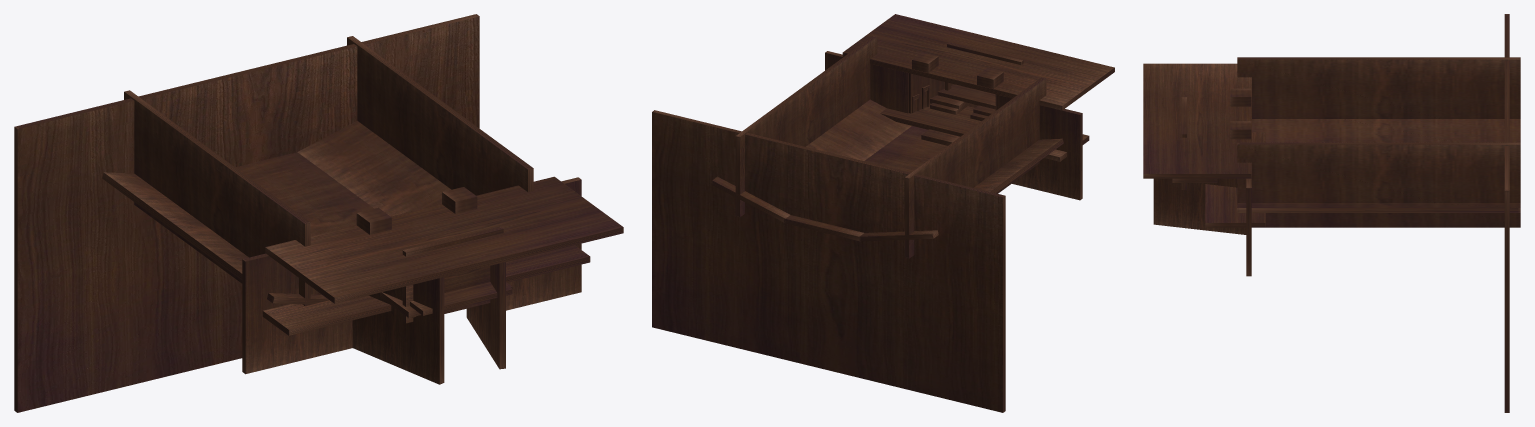
File: blockout.fbx
3 renders of one model, left to right at view 1: azimuth 30°, elevation 25°; view 2: azimuth 150°, elevation 25°; view 3: azimuth 270°, elevation 25°, orthographic. The views are drawn at different scales.
Visible parts, largest first — view 1: Cube (18), Cube (19), Cube (16), Cube (17), Cube (12), Cube (21), Cube (14), Cube (2), Cube, Cube (13), Cube (20), Cube (15) (+4 smaller); view 2: Cube (18), Cube (19), Cube (16), Cube (17), Cube (12), Cube (21), Cube (2), Cube (13), Cube, Cube (20), Cube (15), Cube (4) (+3 smaller); view 3: Cube (17), Cube (16), Cube (19), Cube (13), Cube (15), Cube (12), Cube (18), Cube, Cube (20), Cube (34), Cube (35).
Boxes of the visible parts, x1,y1,x2,y2 form: Cube (18): [14, 14, 479, 412]; Cube (19): [265, 176, 623, 303]; Cube (16): [124, 90, 310, 305]; Cube (17): [347, 36, 533, 195]; Cube (12): [297, 120, 451, 216]; Cube (21): [242, 253, 352, 374]; Cube (14): [352, 277, 444, 384]; Cube (2): [235, 152, 373, 235]; Cube: [262, 245, 590, 335]; Cube (13): [102, 172, 329, 304]; Cube (20): [506, 177, 581, 310]; Cube (15): [466, 262, 505, 369]; Cube (18): [652, 110, 1005, 412]; Cube (19): [842, 14, 1114, 110]; Cube (16): [905, 77, 1046, 258]; Cube (17): [735, 35, 877, 217]; Cube (12): [711, 99, 911, 222]; Cube (21): [997, 94, 1082, 200]; Cube (2): [784, 126, 947, 241]; Cube (13): [858, 138, 1063, 241]; Cube: [880, 106, 1089, 161]; Cube (20): [825, 51, 908, 113]; Cube (15): [909, 73, 977, 113]; Cube (4): [937, 84, 995, 109]; Cube (17): [1237, 142, 1520, 227]; Cube (16): [1237, 57, 1520, 118]; Cube (19): [1143, 63, 1251, 178]; Cube (13): [1252, 119, 1520, 142]; Cube (15): [1153, 178, 1246, 234]; Cube (12): [1237, 203, 1520, 212]; Cube (18): [1504, 14, 1509, 412]; Cube: [1205, 132, 1265, 227]; Cube (20): [1246, 178, 1251, 276]; Cube (34): [1230, 88, 1251, 106]; Cube (35): [1230, 121, 1251, 139].
Size of the model in its own units: 81.32 by 47.97 by 73.33.
